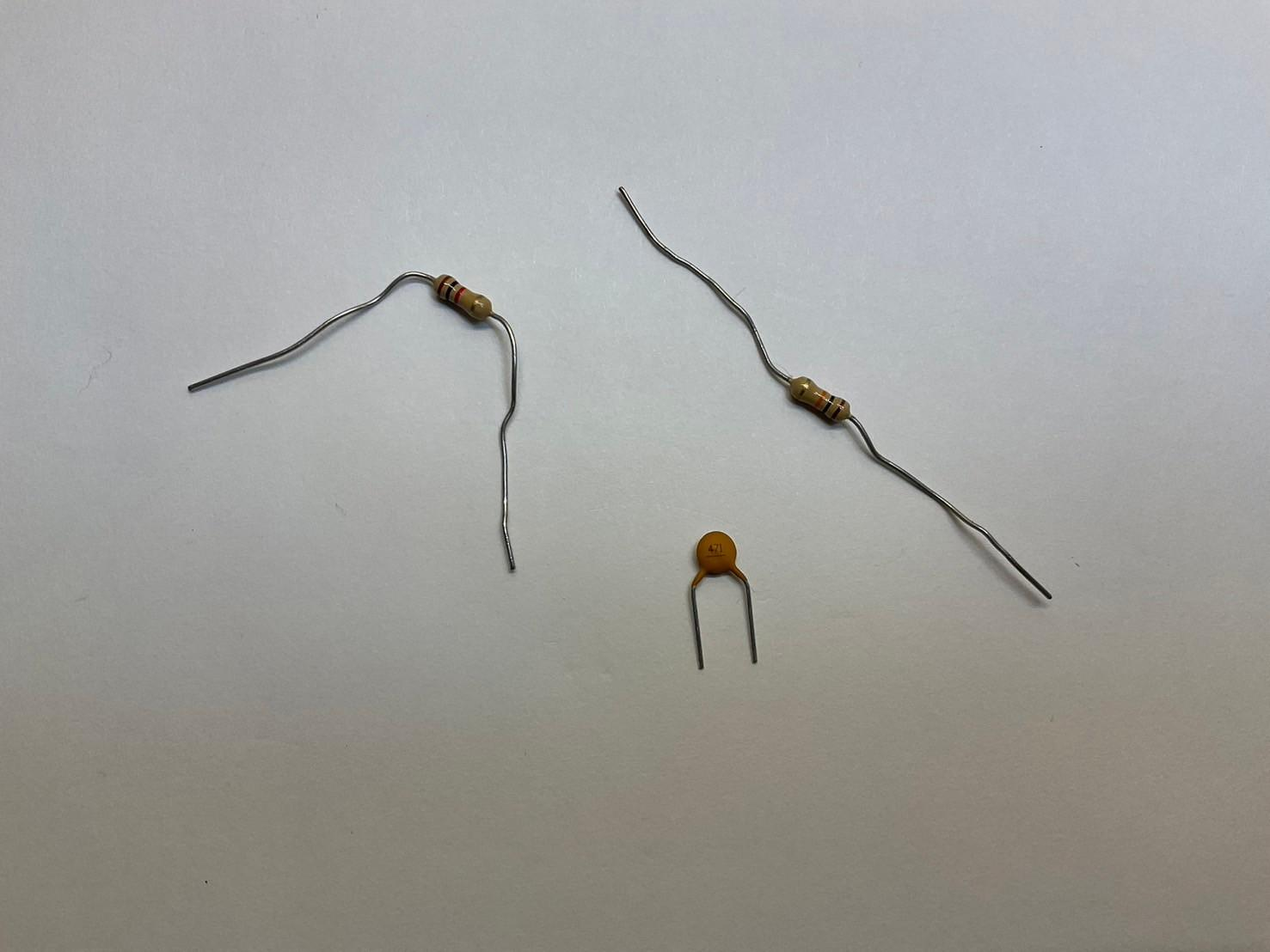resistor: (788, 376, 859, 428), (431, 271, 496, 325)
